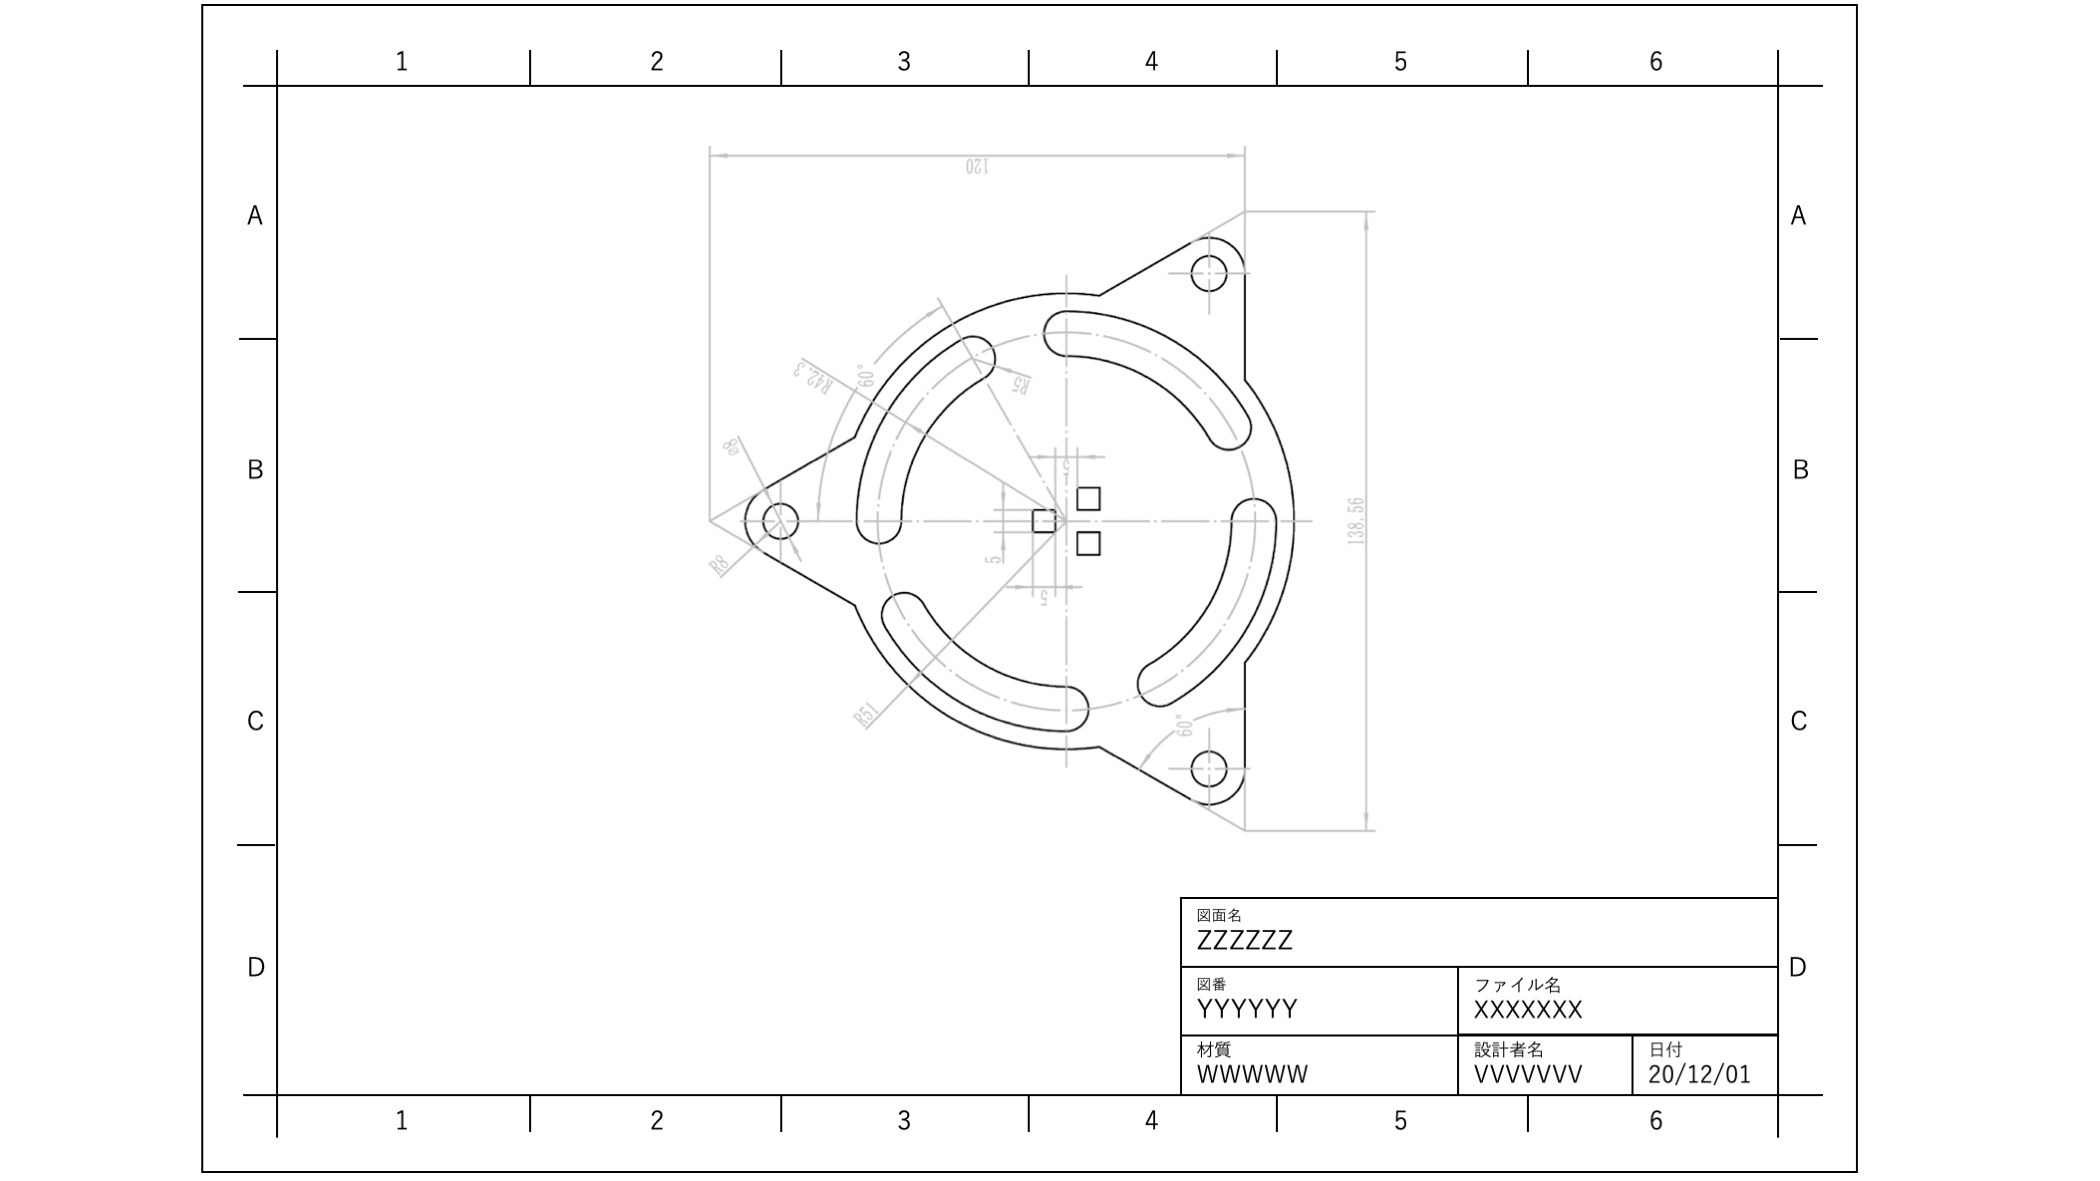circle: (1188, 245, 1230, 301), (1186, 738, 1232, 787), (760, 500, 805, 542)
rectangle: (1070, 482, 1105, 515), (1073, 526, 1102, 557), (1028, 508, 1056, 535)
round_rectangle: (1132, 489, 1300, 715), (1041, 298, 1258, 469), (880, 580, 1098, 743), (842, 327, 998, 547)
